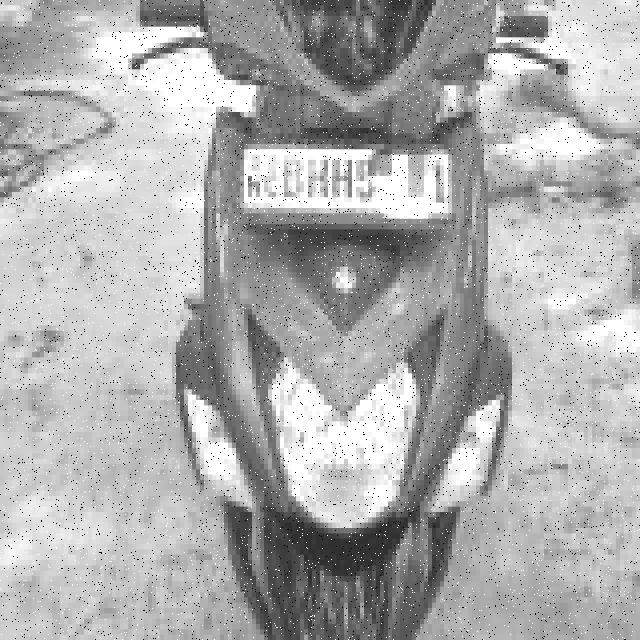motorbike: (127, 0, 542, 640)
